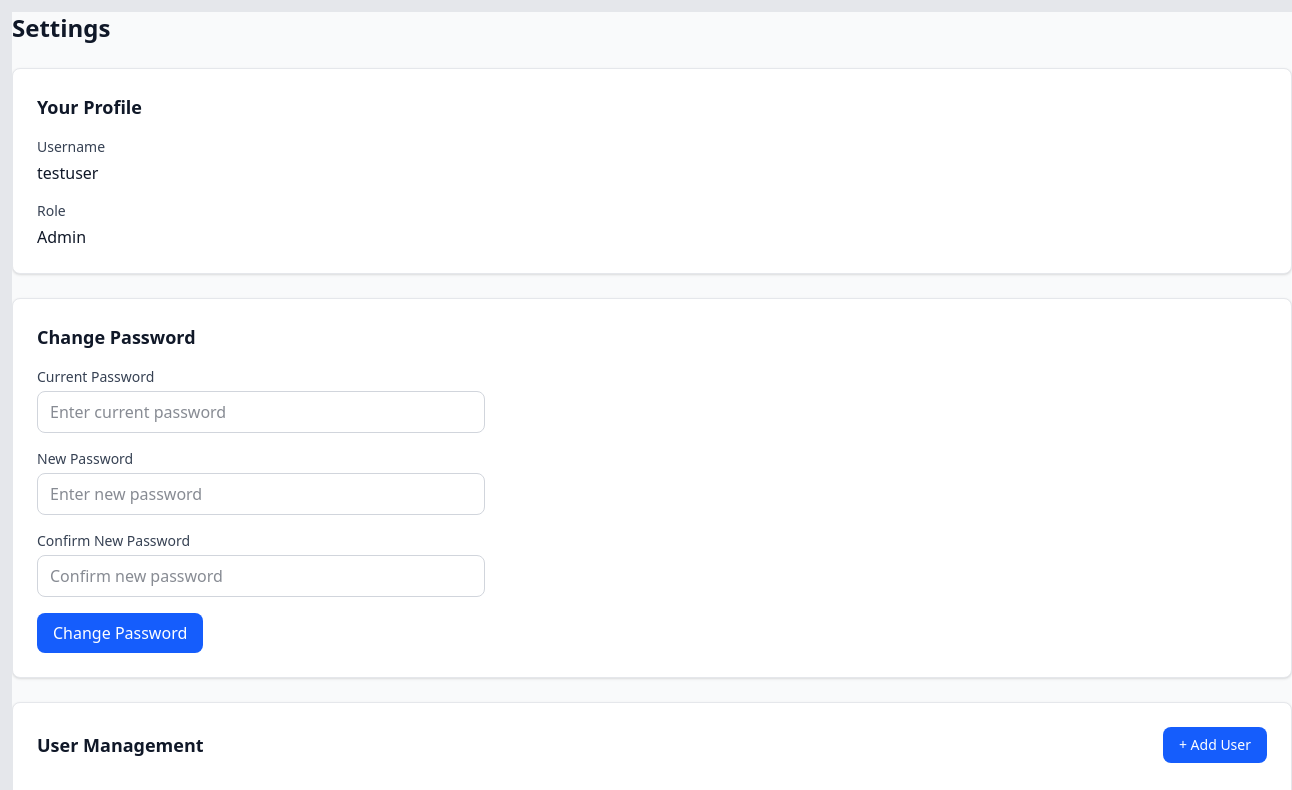
Scenario: SettingsPage › Change Password › shows error when passwords do not match
The image size is (1292, 790).
In the password field with placeholder "Enter current password": (261, 412) x1=37 y1=391 x2=485 y2=433, type "oldpass"
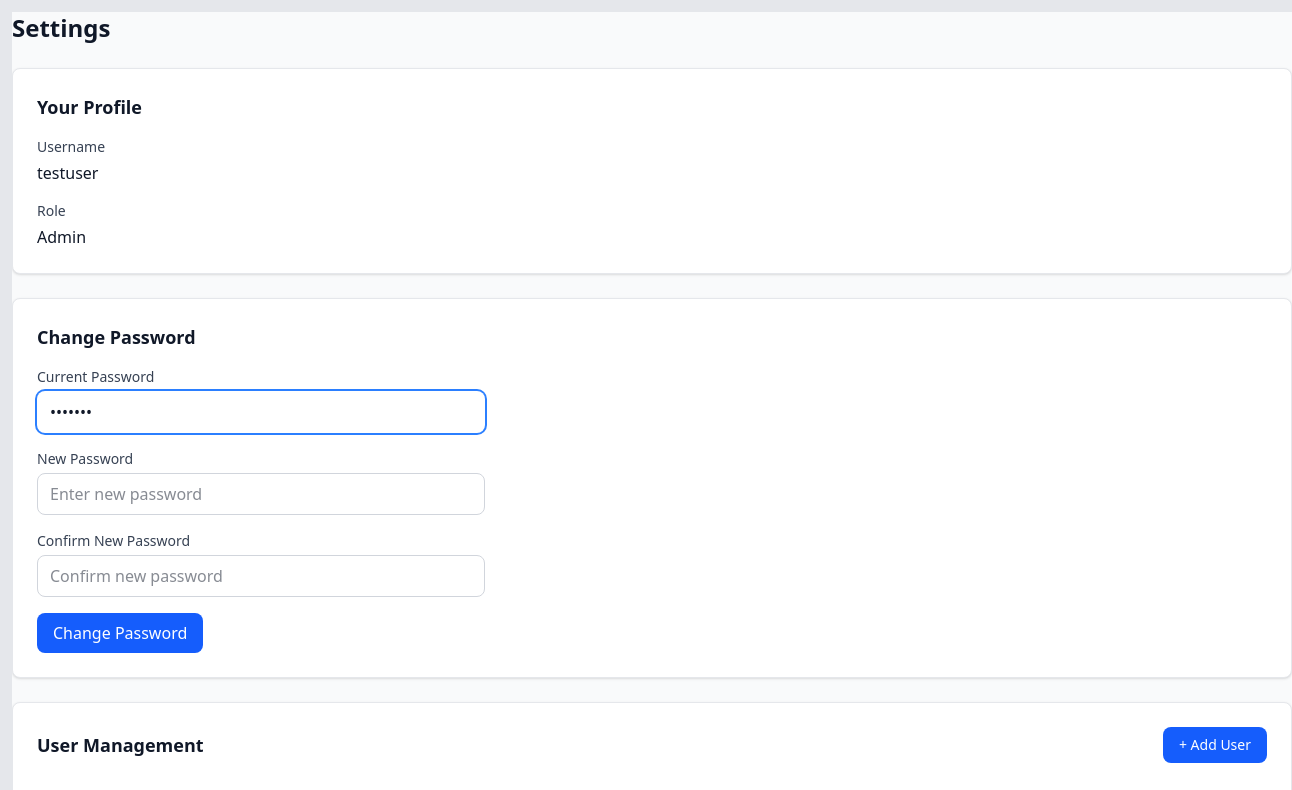
In the password field with placeholder "Enter new password": (261, 494) x1=37 y1=473 x2=485 y2=515, type "newpass123"
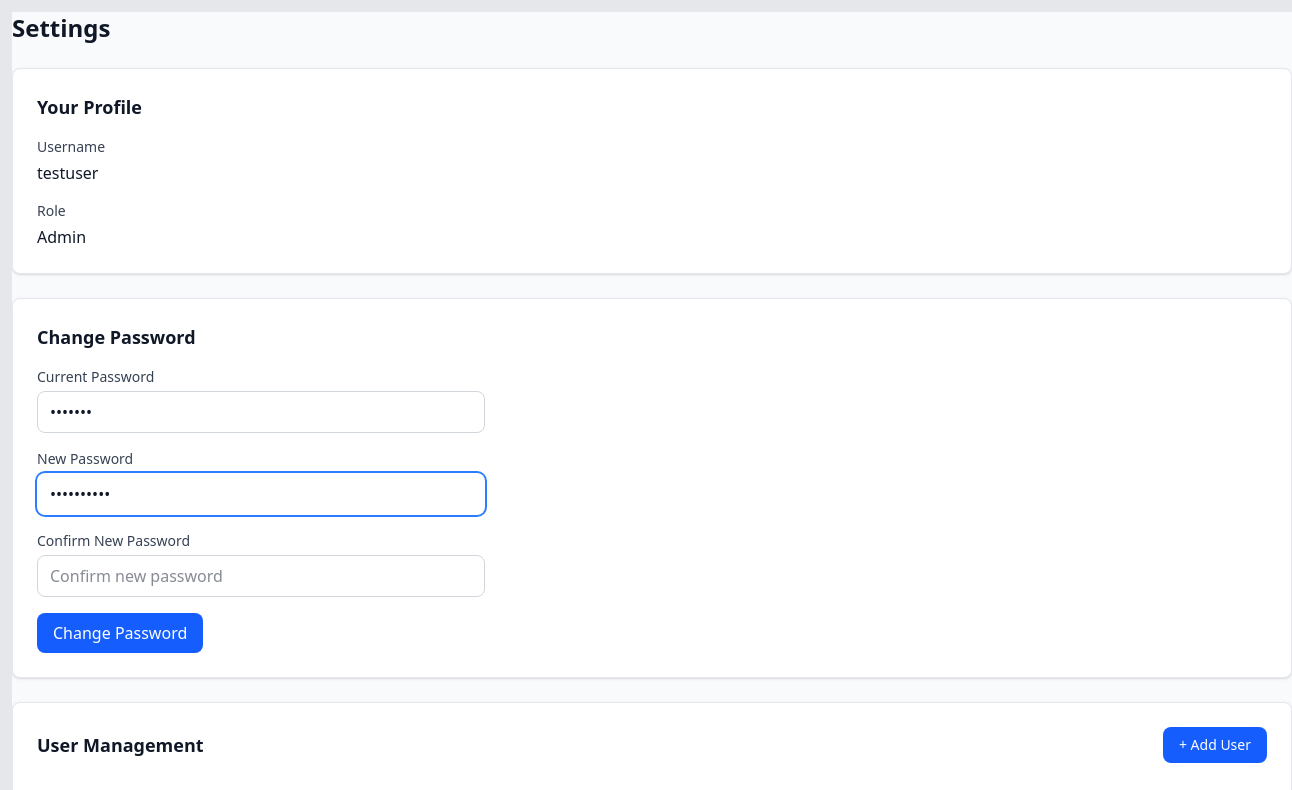
In the password field with placeholder "Confirm new password": (261, 576) x1=37 y1=555 x2=485 y2=597, type "differentpass"
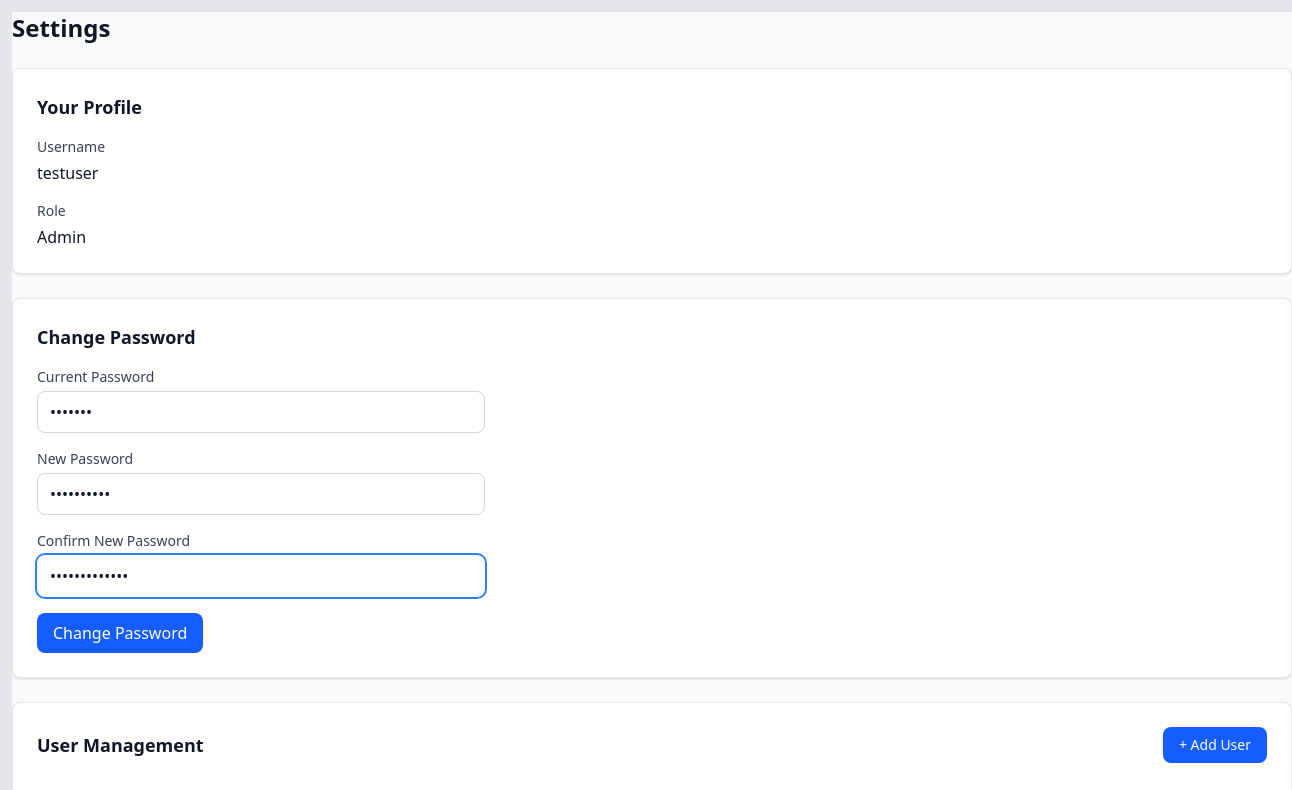
Click the button "Change Password": (120, 633) x1=37 y1=613 x2=203 y2=653
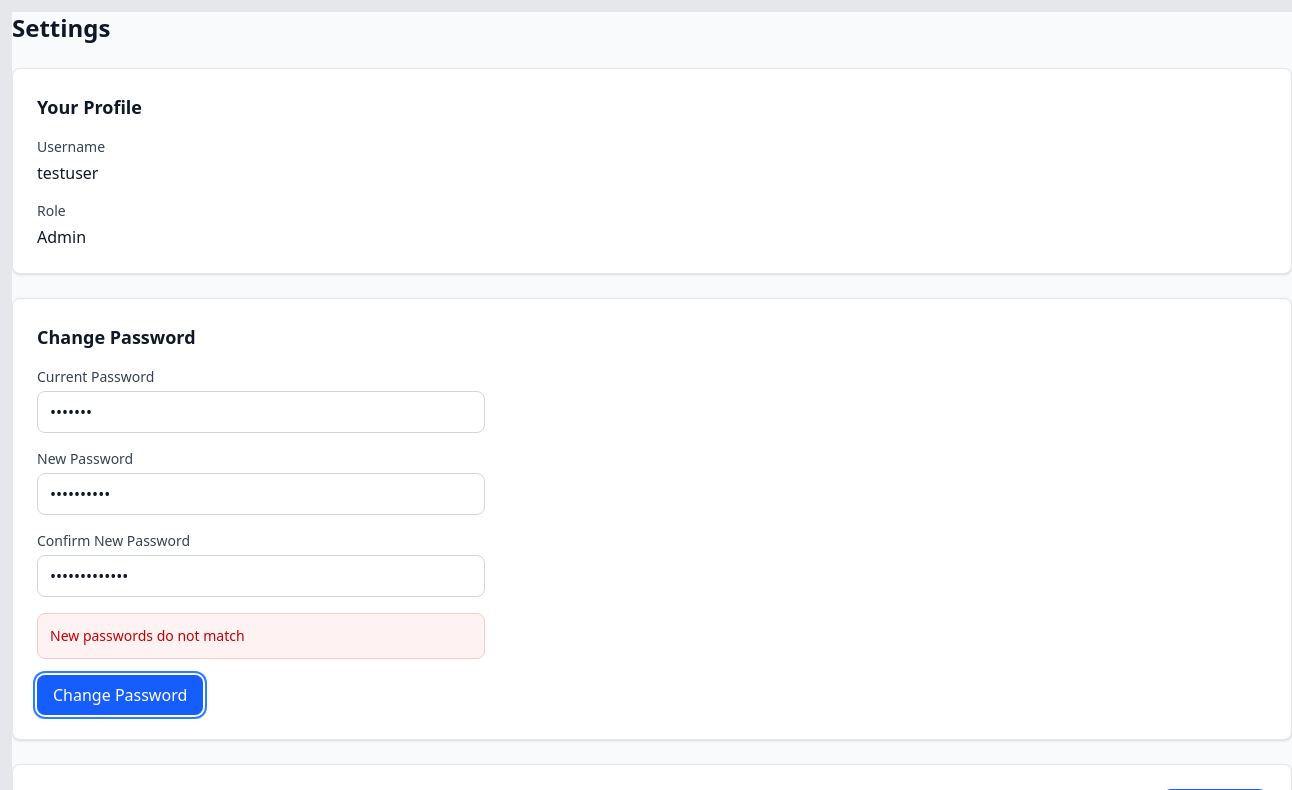
Expected: the text "New passwords do not match" is shown, x1=37 y1=613 x2=485 y2=659
